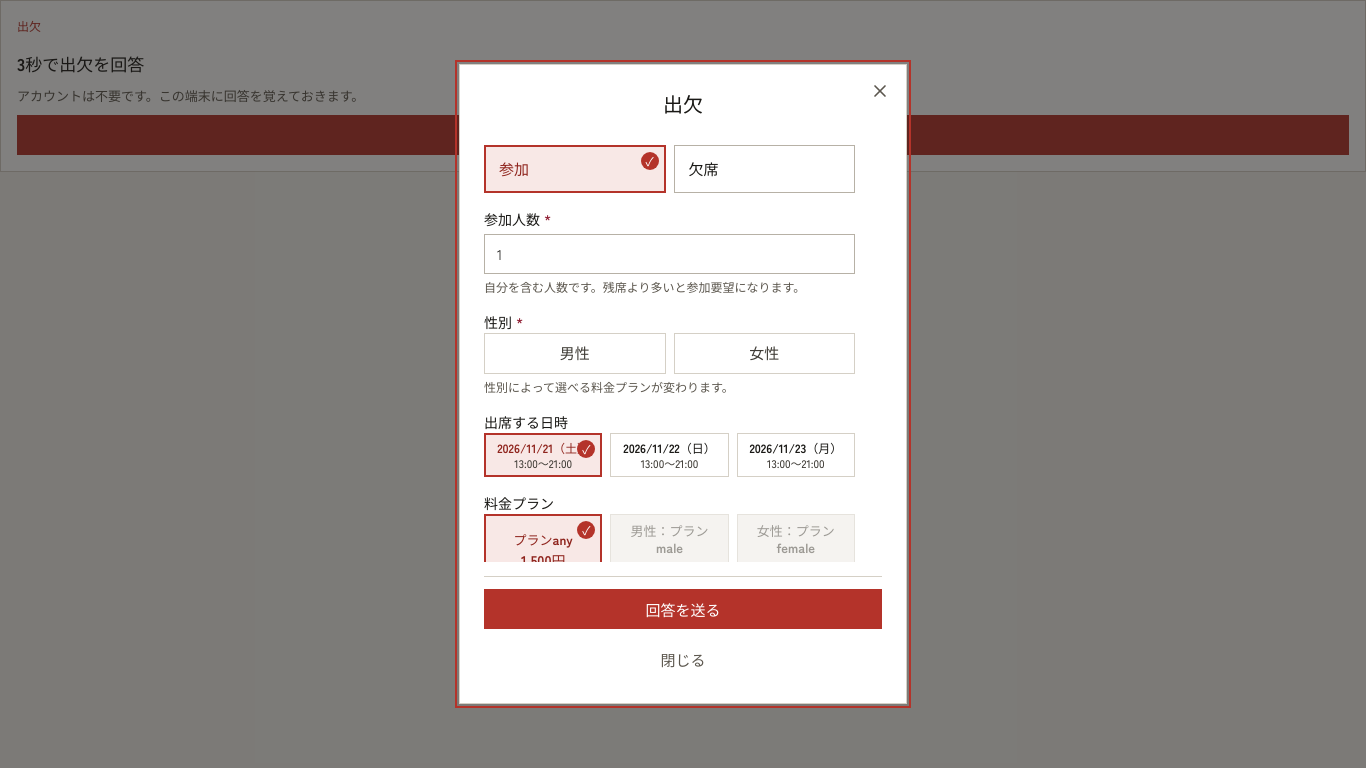
Test: 出席する日時 › 1 件も選ばなければ、案内を出して送信を止める
The image size is (1366, 768).
Click the checkbox named "schedule" at (543, 455), box [484,432,602,477]
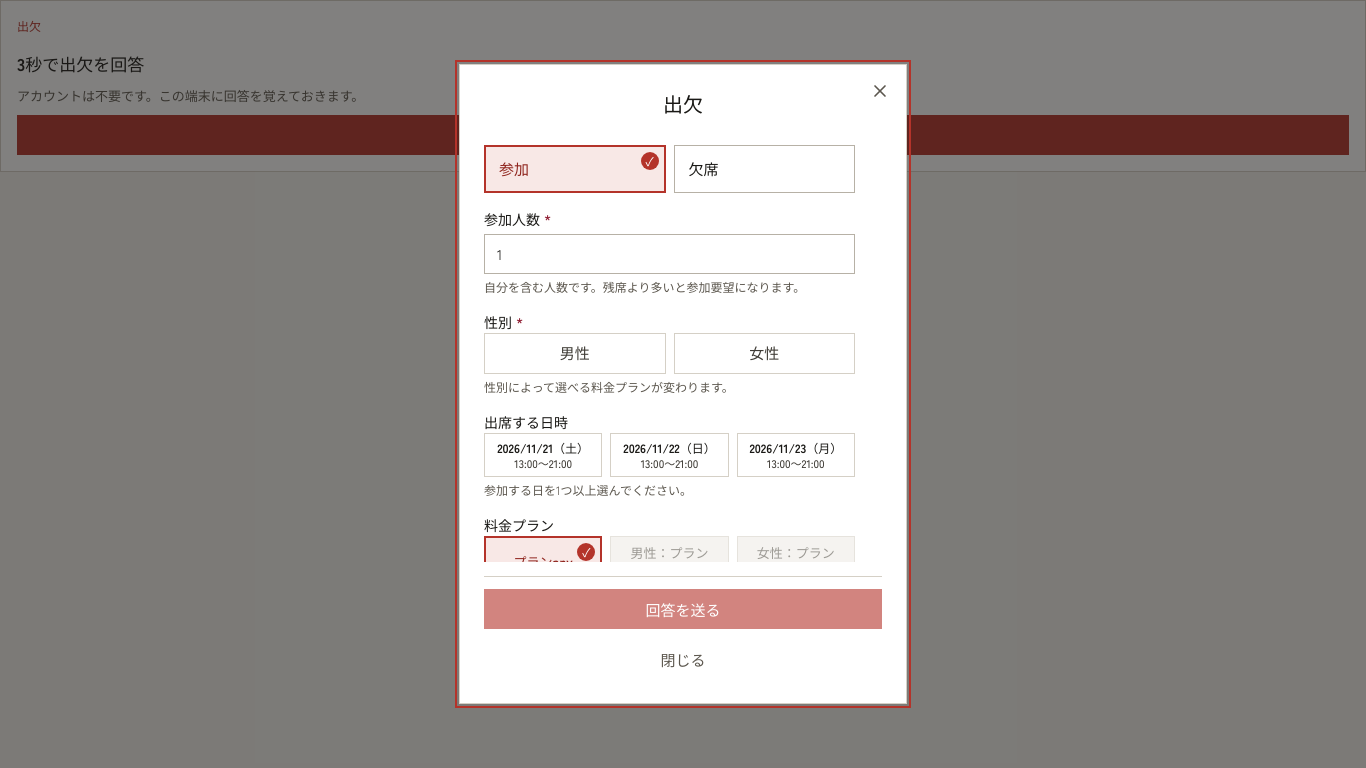
Check: the text "参加する日を1つ以上選んでください。" is shown, box [484,481,692,498]
Check: the button "回答を送る" is disabled, box [484,589,882,629]
